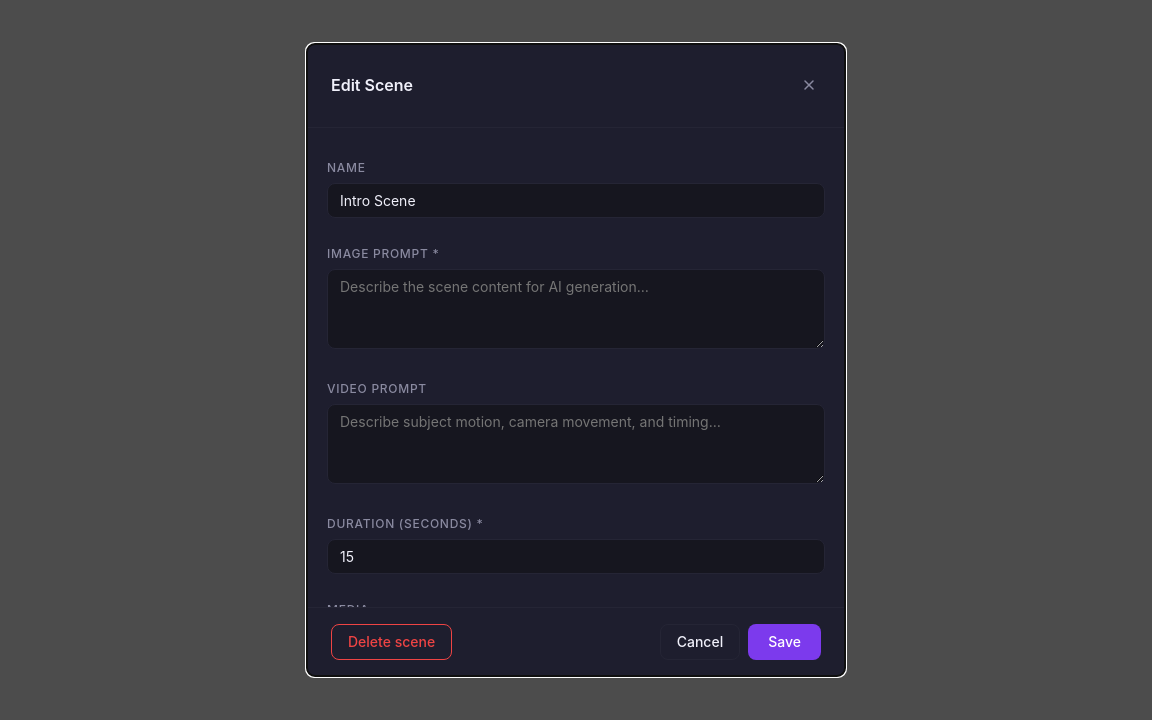
it: SceneModal › field validation › blocks save when prompt is empty and shows error
Step 1. Click the button with test id "save-button" → (785, 642), box [748,624,821,660]
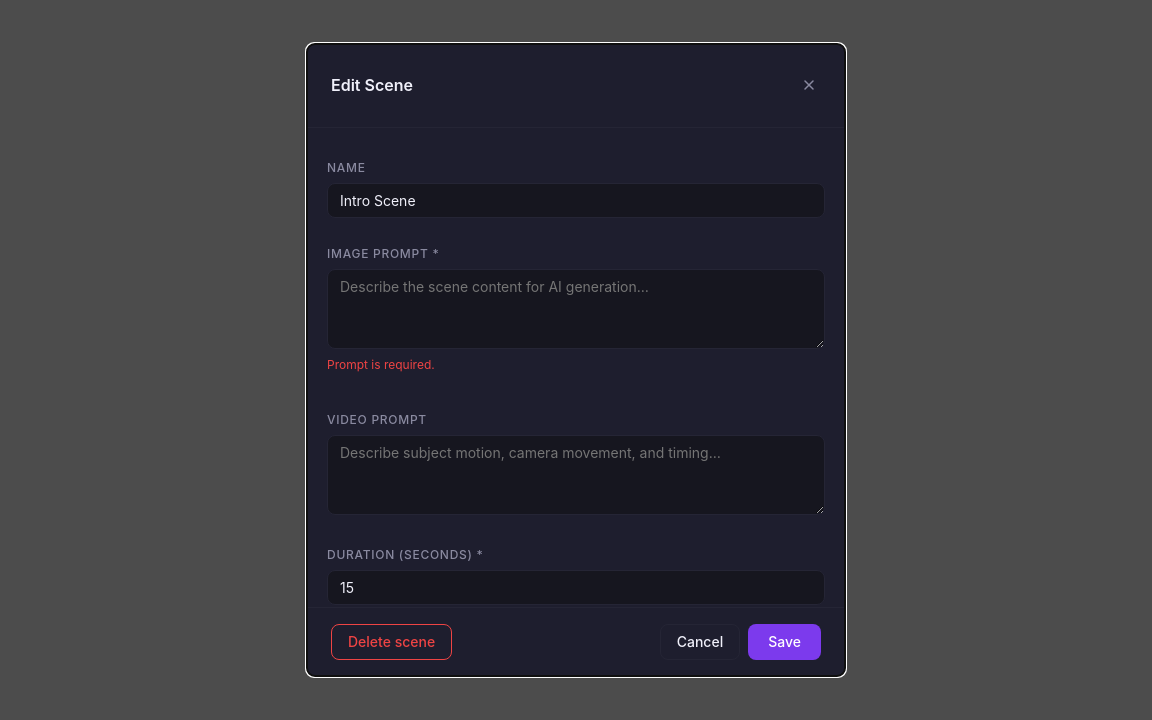
Now the message reads "Prompt is required.", box [327,357,435,372]
